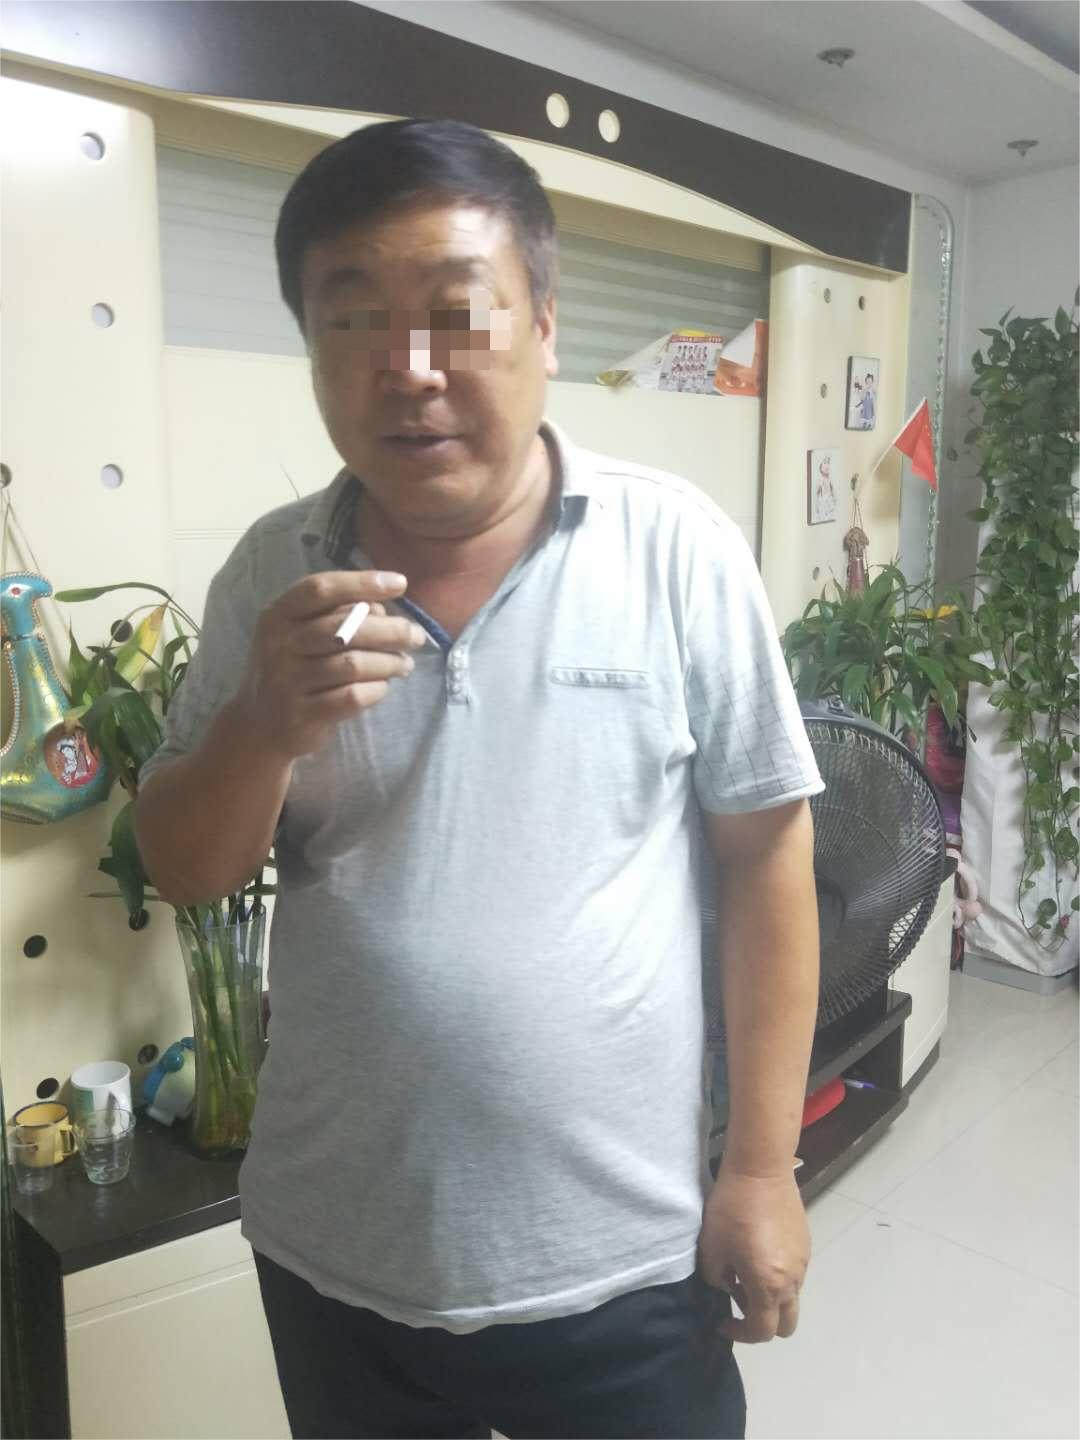smoke: (331, 600, 377, 649)
